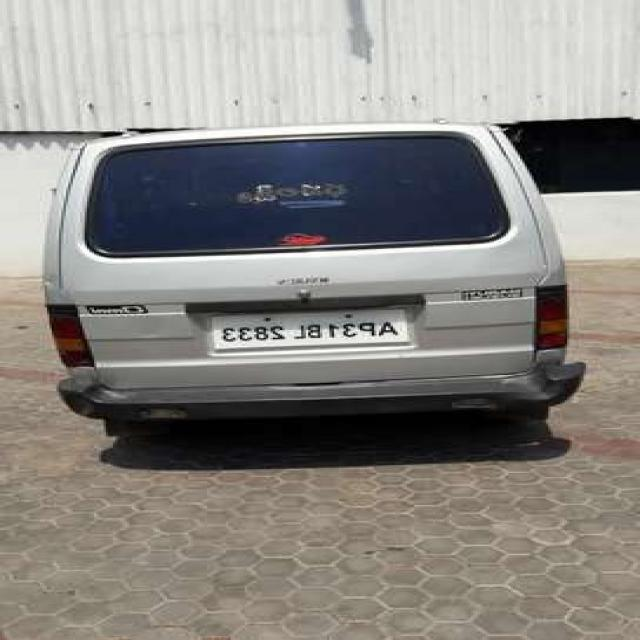license_plate: (206, 306, 415, 353)
